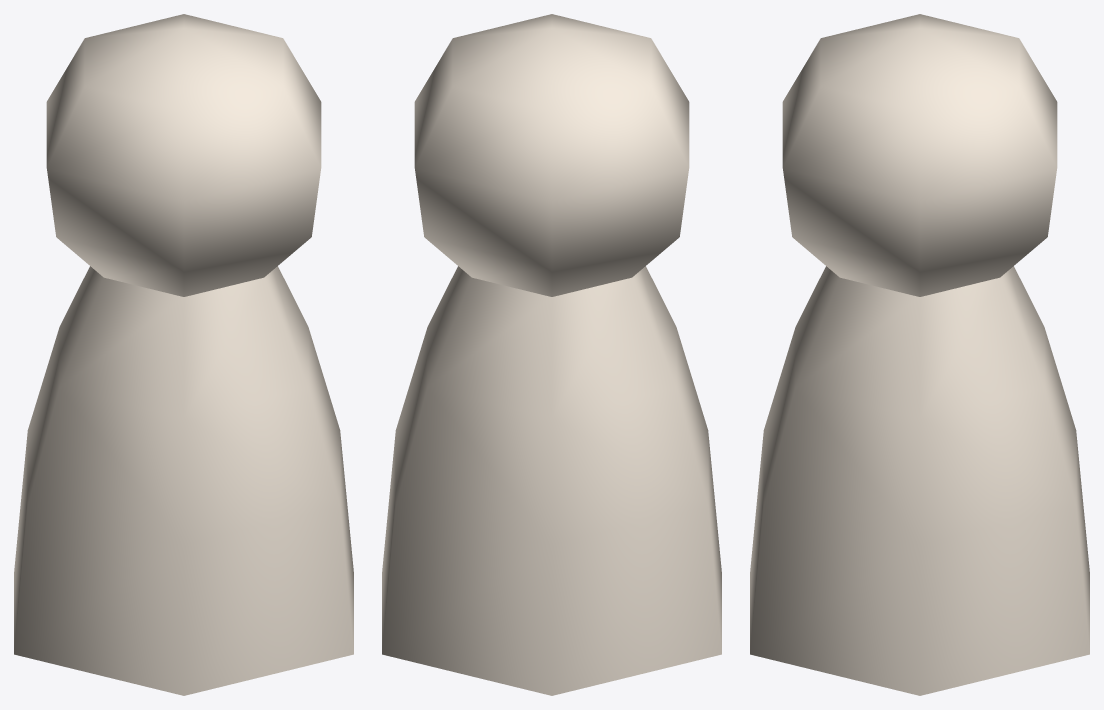
File: Pawn.fbx
The picture shows the model from 3 angles, left to right: view 1: azimuth 30°, elevation 25°; view 2: azimuth 150°, elevation 25°; view 3: azimuth 270°, elevation 25°; orthographic projection.
Parts seen in each view (by area): view 1: Pawn; view 2: Pawn; view 3: Pawn.
Boxes of the visible parts, <box> form: Pawn: <box>14,14,353,695</box>; Pawn: <box>382,14,721,695</box>; Pawn: <box>750,14,1089,695</box>.
Bounding box in the file's own units: 4.9 × 8.06 × 4.24.
